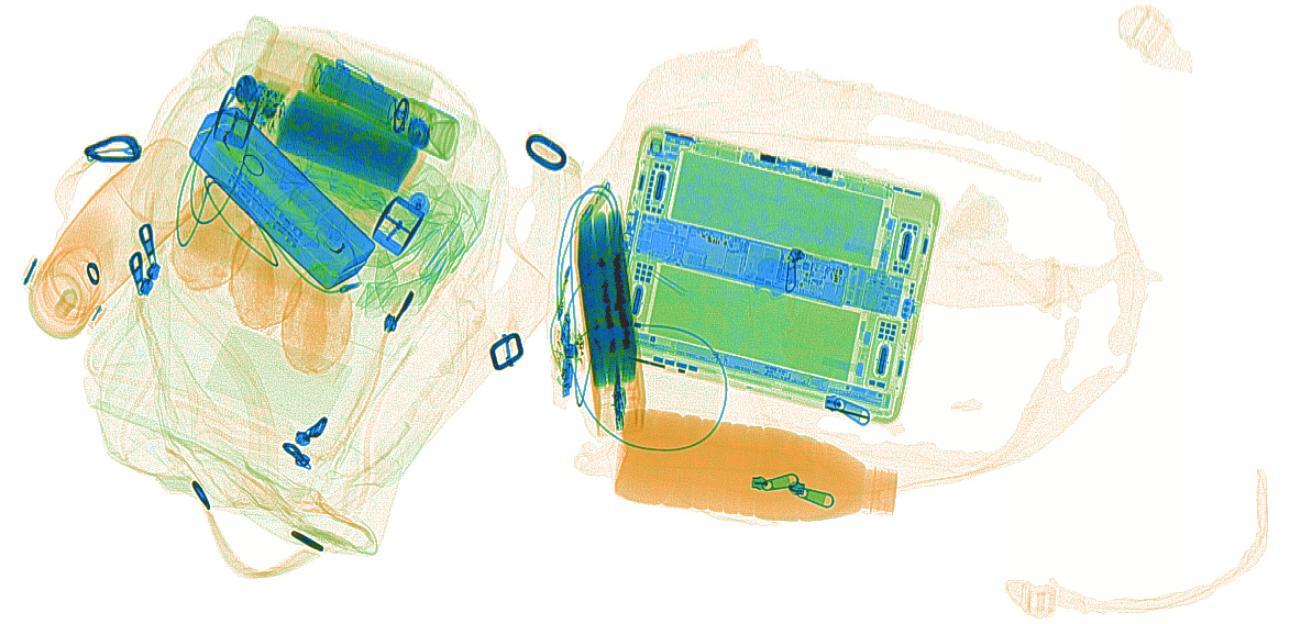battery: (312, 58, 398, 122)
